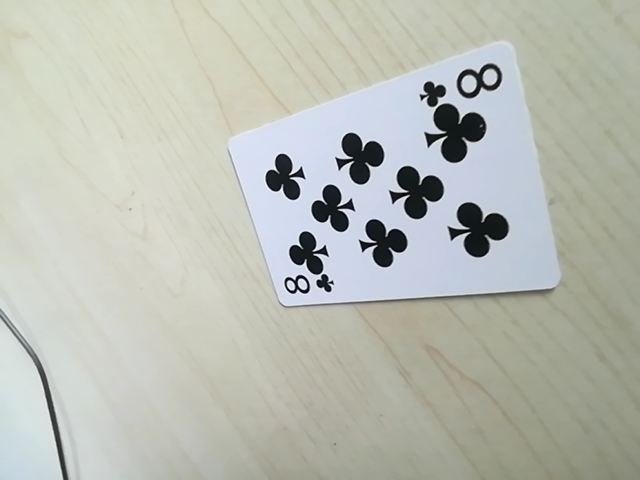mh 8: (417, 59, 508, 104), (279, 269, 338, 303)
